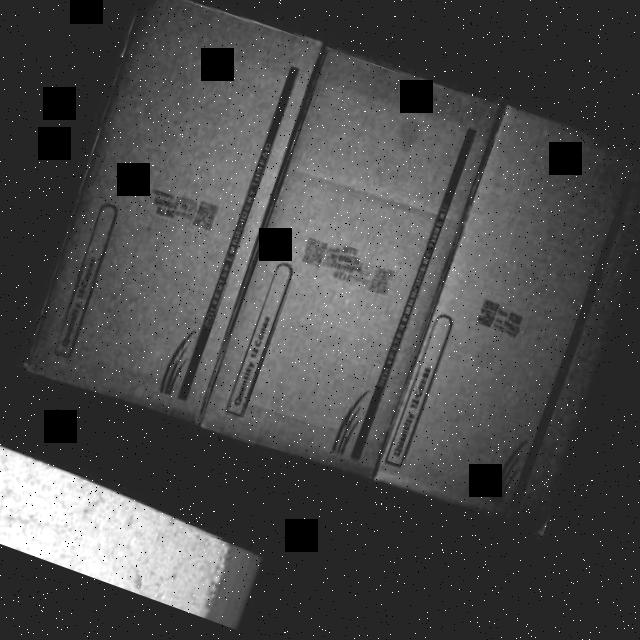box: (193, 49, 511, 496), (12, 0, 326, 420), (374, 111, 640, 545)
